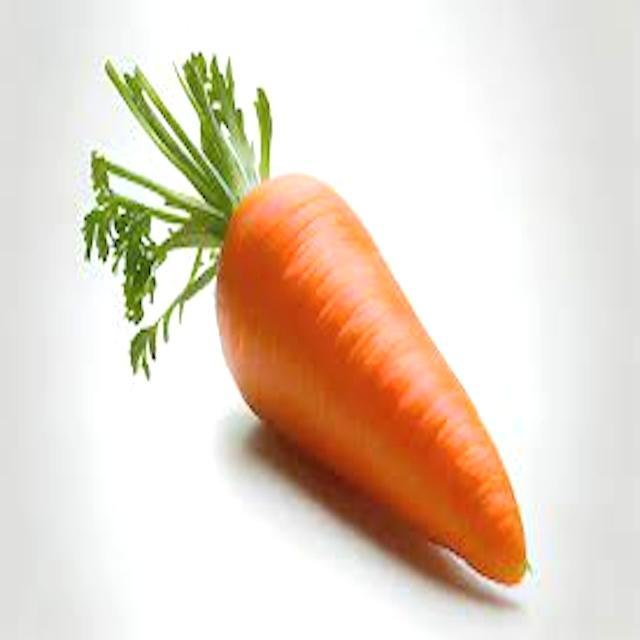carrot: (84, 54, 529, 584)
